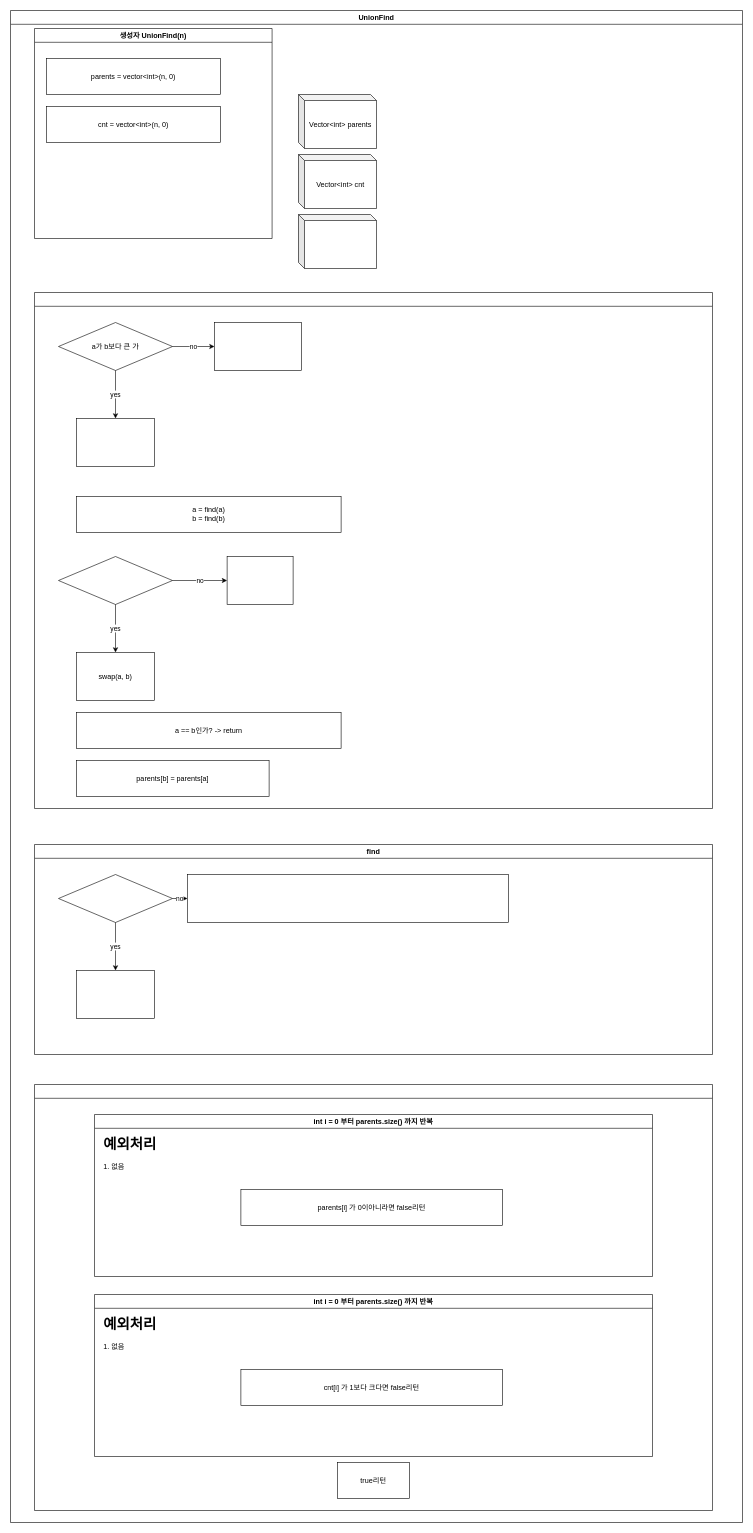
This 753x1533 diagram has some shape labels left out. The box of each missing label's shape, as (x1, y1, x2, y2) in pixels:
a가 b보다 큰가?: (58, 556, 172, 604)
a리턴: (76, 970, 154, 1018)
bool isTree: (34, 1084, 712, 1510)
cnt[a]++: (214, 322, 302, 370)
cnt]b]++: (76, 418, 154, 466)
merge(int a, int b): (34, 292, 712, 808)
parents[a] = find(parents[a]) return parents[a]: (187, 874, 508, 922)
parents[a] == a인가: (58, 874, 172, 922)
